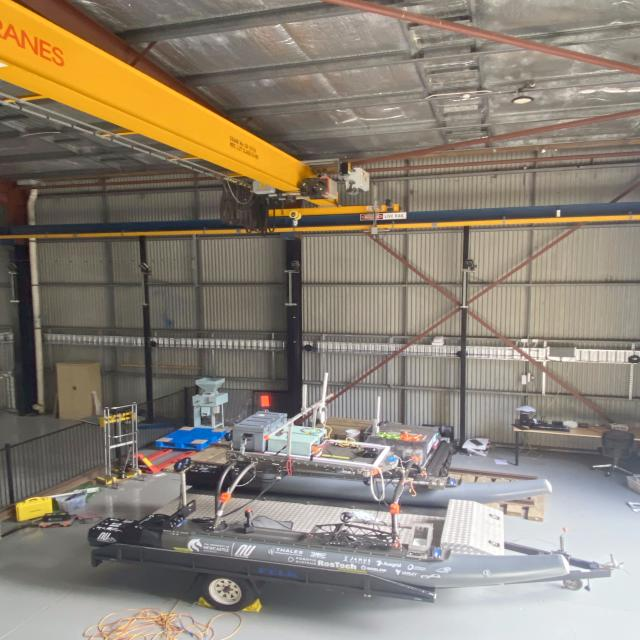matrix: (260, 394, 271, 408)
